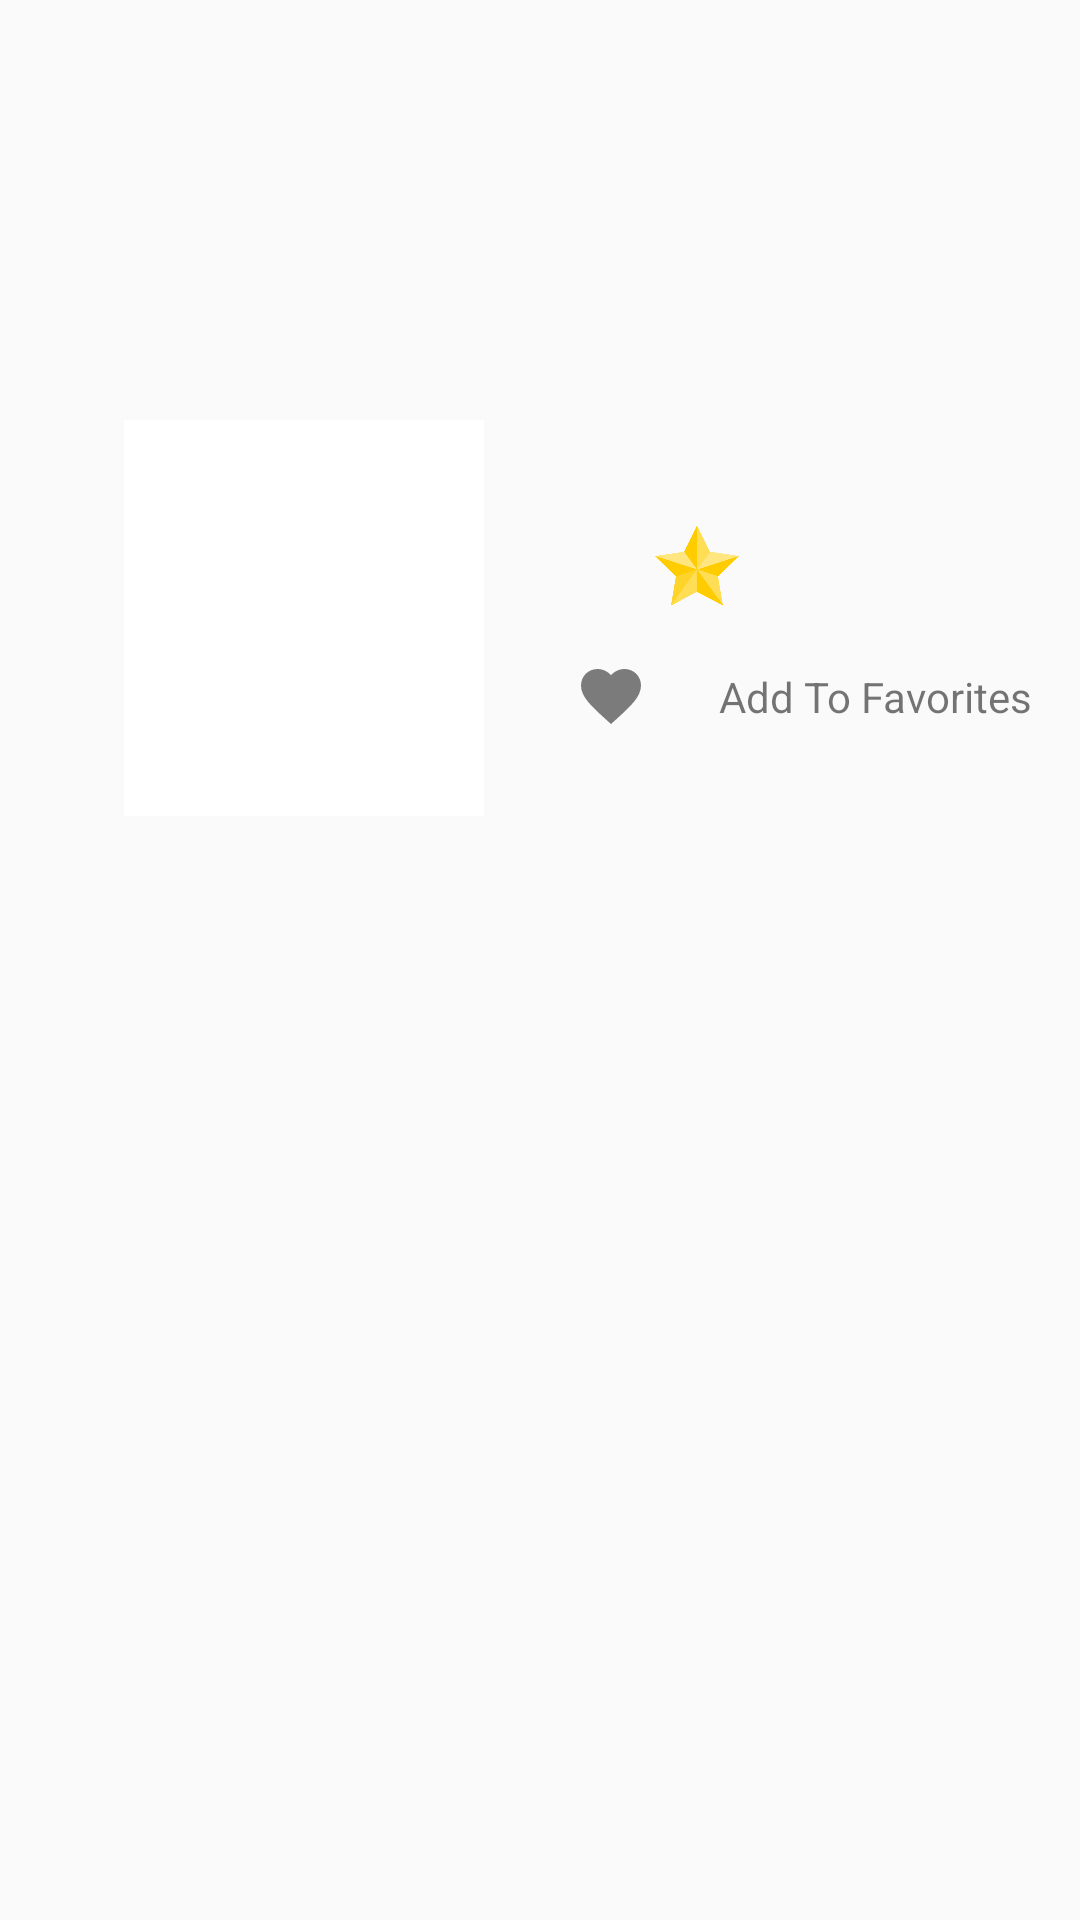

Where to tap for icons on this 1080x1920 app screen, as (x=x, y=y):
fav: (x=611, y=696)
star: (x=697, y=566)
